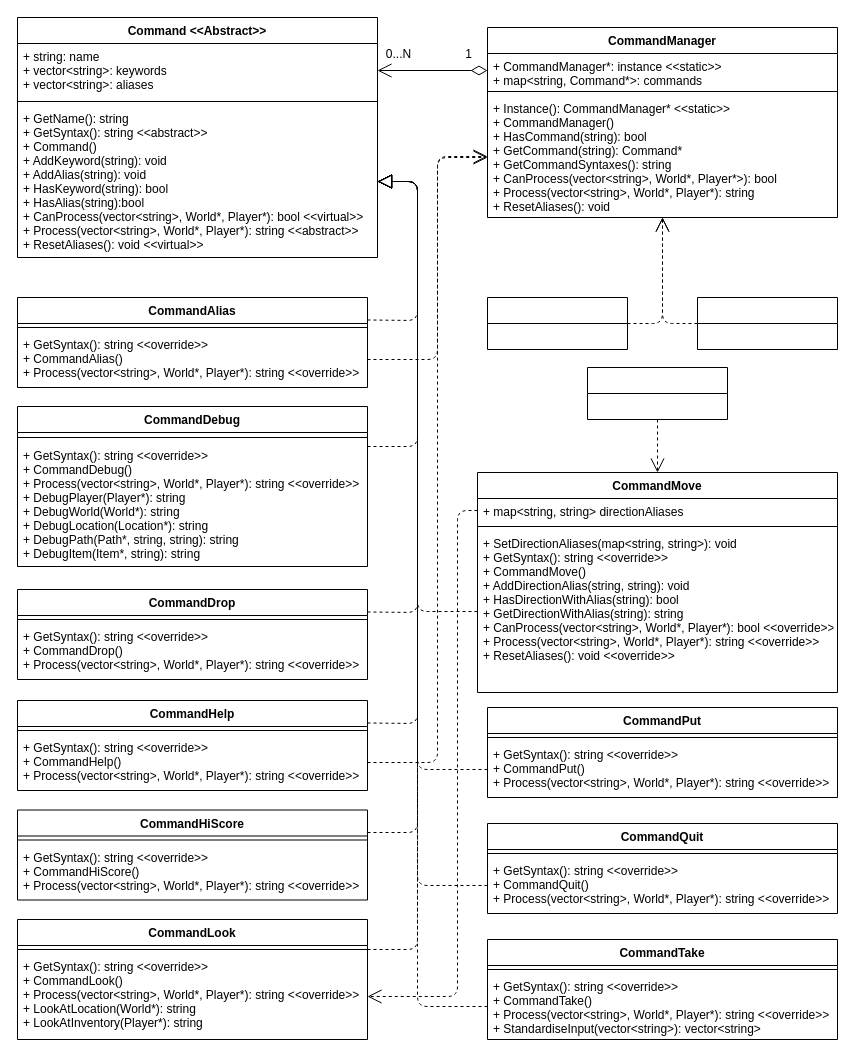
The diagram is 855 pixels wide and 1060 high, and some of its shapes have lost their labels. The shapes that lost their labels are listed below. From the top down, each one's centre as x and y in pixels, then its label:
the point at 557,323: Game
the point at 767,323: StageGameplay
the point at 657,393: World
